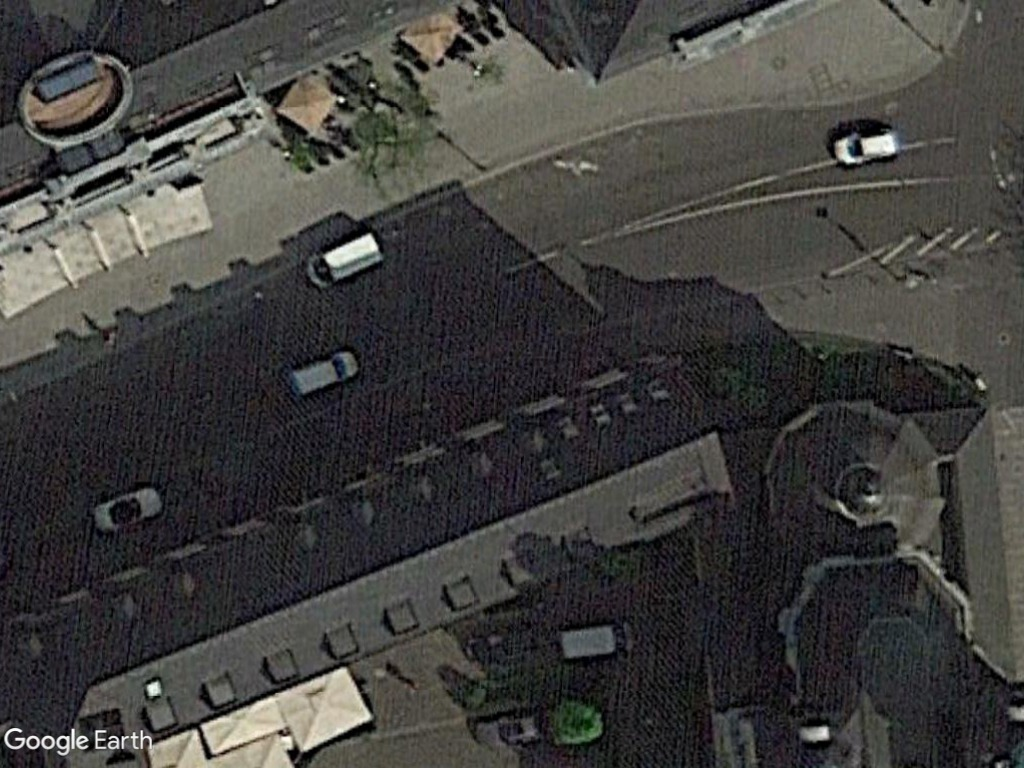car: (88, 478, 171, 539), (286, 341, 366, 399), (826, 119, 902, 172)
van: (297, 228, 391, 295)
